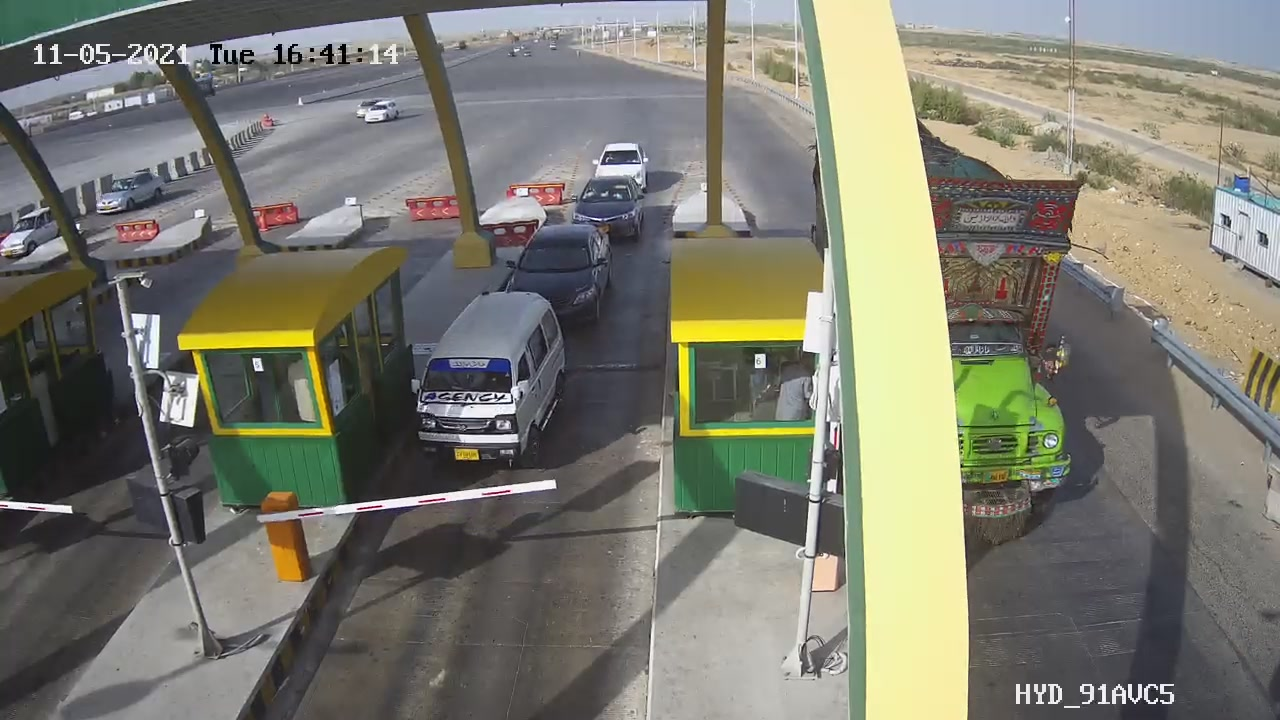F1: (396, 279, 591, 482)
